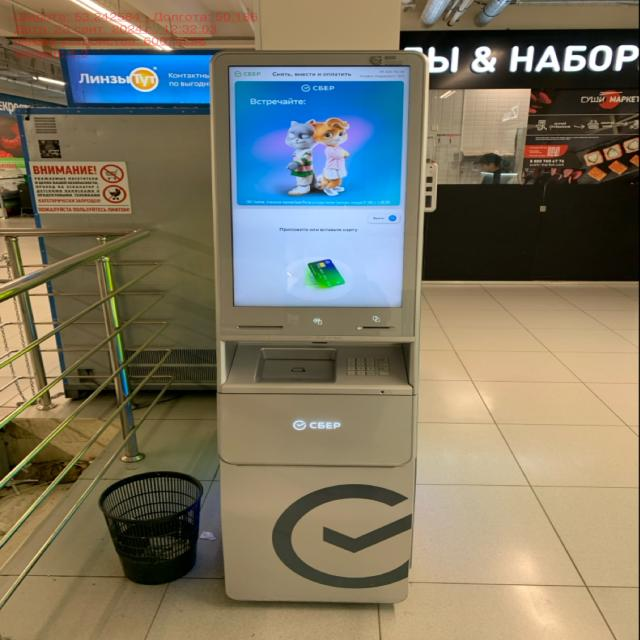bank: (206, 47, 422, 610)
